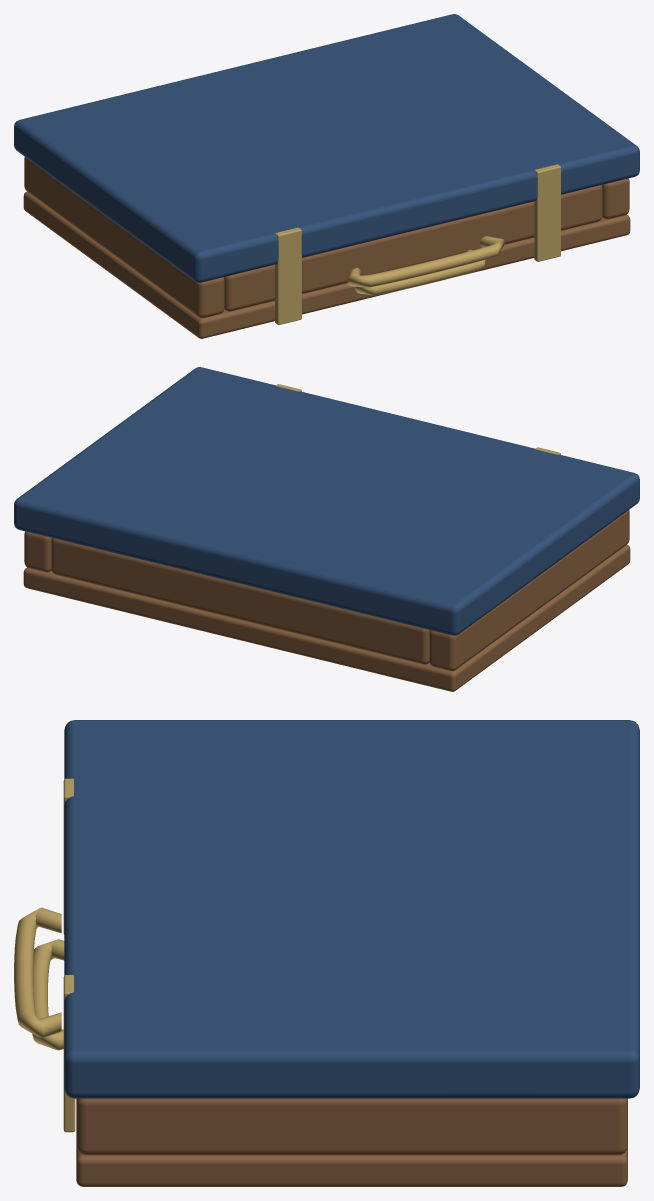
The model's file is fantasy-cartographers-map-printing-guild-map-portfolio-200dc3f7__32275.glb.
The picture shows the model from 3 angles, top to bottom: view 1: azimuth 30°, elevation 25°; view 2: azimuth 150°, elevation 25°; view 3: azimuth 270°, elevation 25°; orthographic projection. The views are drawn at different scales.
Visible parts, largest first — view 1: map-portfolio-case; view 2: map-portfolio-case; view 3: map-portfolio-case.
Boxes of the visible parts, box(x1,y1,x2,y2) form: map-portfolio-case: box(14, 14, 639, 338); map-portfolio-case: box(14, 367, 639, 691); map-portfolio-case: box(14, 720, 639, 1186).
Size of the model in its own units: 0.825 by 0.16 by 0.6469.
